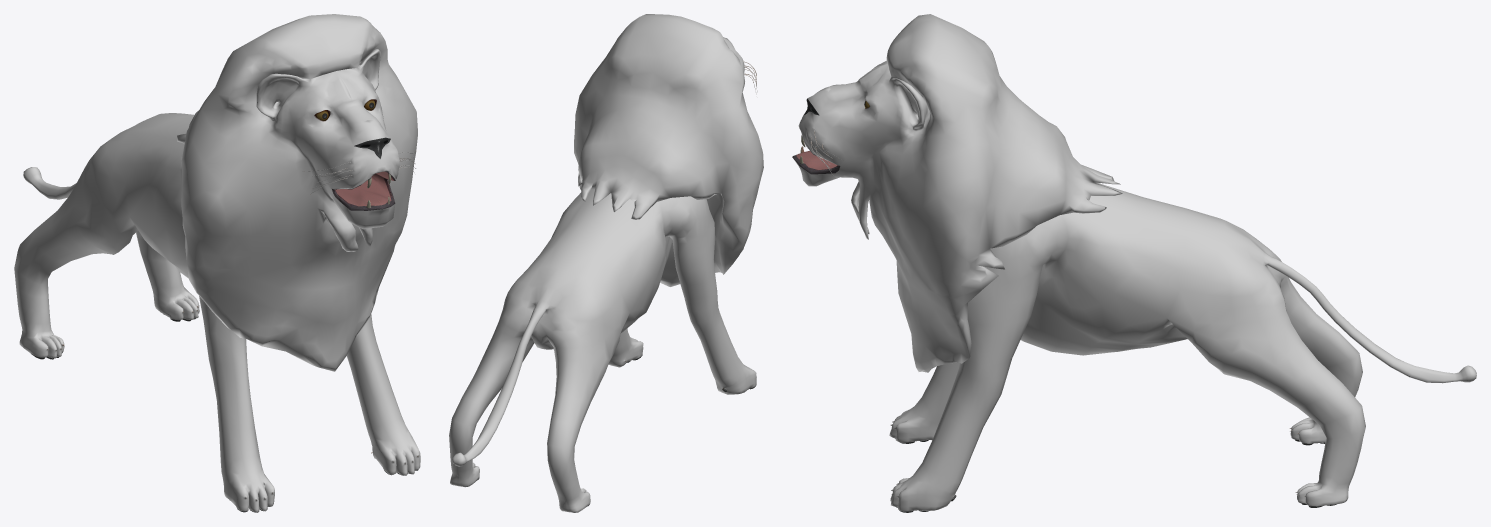
3 views of the same model, side by side, from view 1: azimuth 30°, elevation 25°; view 2: azimuth 150°, elevation 25°; view 3: azimuth 270°, elevation 25° (orthographic). The views are drawn at different scales.
Parts seen in each view (by area): view 1: skp8FAE (×2); view 2: skp8FAE; view 3: skp8FAE.
Part boxes in pixels (x1,y1,x2,y2): skp8FAE (×2): (14,14,420,512); skp8FAE: (449,14,763,512); skp8FAE: (793,14,1476,511).
Size of the model in its own units: 37.3 by 99.75 by 71.55.
